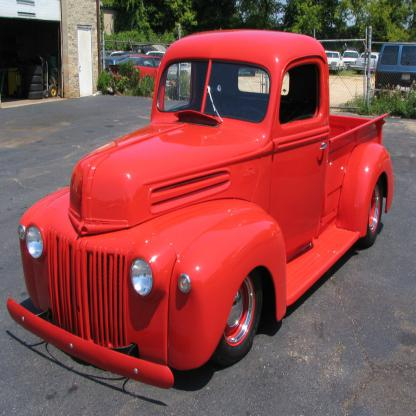Car: (6, 29, 394, 390)
Truck: (7, 30, 394, 390)
